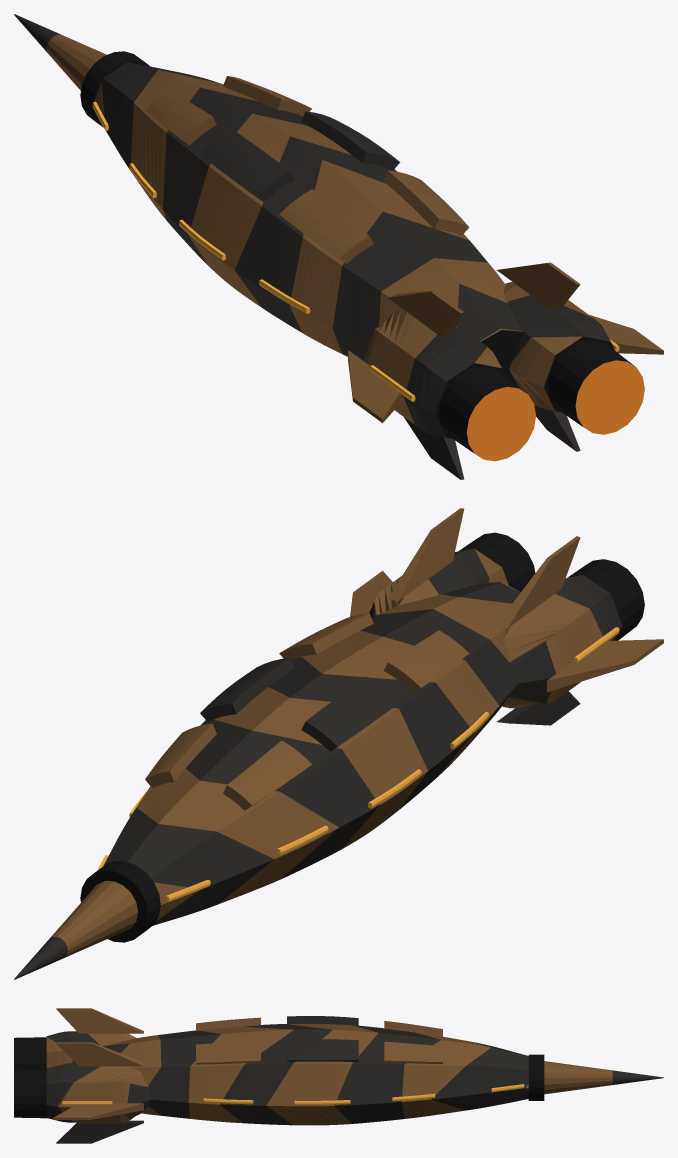
The model's file is cruiser.obj.
The picture shows the model from 3 angles, top to bottom: view 1: azimuth 30°, elevation 25°; view 2: azimuth 150°, elevation 25°; view 3: azimuth 270°, elevation 25°; orthographic projection. The views are drawn at different scales.
Parts seen in each view (by area): view 1: hull, pod.port, nozzle.starboard, nozzle.port, pod.starboard, armour.port.2, armour.port.3, armour.starboard.3, shroud.over.starboard, needle, armour.port.1, shroud.out.port (+7 smaller); view 2: hull, pod.port, needle, armour.port.2, pod.starboard, armour.port.1, armour.port.3, collar, shroud.out.port, shroud.over.starboard, nozzle.port, shroud.over.port (+6 smaller); view 3: hull, pod.starboard, needle, armour.starboard.2, nozzle.starboard, armour.starboard.3, shroud.over.starboard, shroud.over.port, pod.port, shroud.under.starboard, armour.starboard.1, nozzle.port (+7 smaller).
Part boxes in pixels (bbox=[...]): hull: bbox=[94, 62, 522, 385]; pod.port: bbox=[363, 308, 505, 438]; nozzle.starboard: bbox=[547, 339, 644, 434]; nozzle.port: bbox=[439, 366, 535, 461]; pod.starboard: bbox=[503, 282, 614, 411]; armour.port.2: bbox=[200, 129, 294, 201]; armour.port.3: bbox=[279, 189, 373, 263]; armour.starboard.3: bbox=[383, 170, 469, 235]; shroud.over.starboard: bbox=[497, 262, 580, 309]; needle: bbox=[14, 14, 106, 90]; armour.port.1: bbox=[145, 90, 216, 145]; shroud.out.port: bbox=[348, 350, 402, 423]; hull: bbox=[103, 581, 520, 925]; pod.port: bbox=[502, 575, 622, 708]; needle: bbox=[14, 881, 137, 979]; armour.port.2: bbox=[301, 676, 399, 751]; pod.starboard: bbox=[369, 548, 508, 617]; armour.port.1: bbox=[223, 740, 311, 810]; armour.port.3: bbox=[383, 630, 469, 692]; collar: bbox=[80, 861, 160, 942]; shroud.out.port: bbox=[547, 639, 663, 692]; shroud.over.starboard: bbox=[388, 508, 464, 600]; nozzle.port: bbox=[567, 559, 644, 640]; shroud.over.port: bbox=[496, 536, 580, 628]; hull: bbox=[102, 1024, 528, 1125]; pod.starboard: bbox=[46, 1063, 150, 1122]; needle: bbox=[544, 1061, 663, 1094]; armour.starboard.2: bbox=[287, 1039, 358, 1061]; nozzle.starboard: bbox=[14, 1069, 46, 1118]; armour.starboard.3: bbox=[196, 1040, 260, 1064]; shroud.over.starboard: bbox=[56, 1042, 143, 1066]; shroud.over.port: bbox=[56, 1008, 143, 1033]; pod.port: bbox=[46, 1031, 136, 1067]; shroud.under.starboard: bbox=[56, 1120, 143, 1143]; armour.starboard.1: bbox=[384, 1041, 442, 1063]; nozzle.port: bbox=[14, 1037, 46, 1069].
Size of the model in its own units: 0.3 by 0.1704 by 1.
